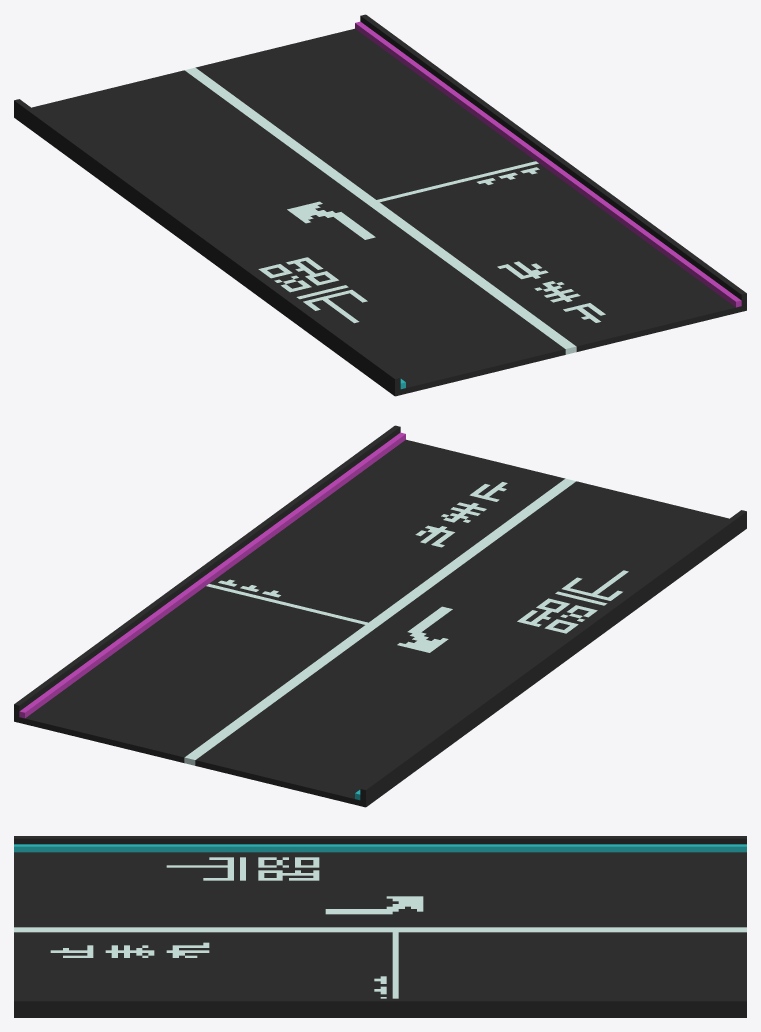
The model's file is SM_Road_2.fbx.
3 renders of one model, top to bottom at view 1: azimuth 30°, elevation 25°; view 2: azimuth 150°, elevation 25°; view 3: azimuth 270°, elevation 25°, orthographic. The views are drawn at different scales.
Visible parts, largest first — view 1: SM_Road_2; view 2: SM_Road_2; view 3: SM_Road_2.
Boxes of the visible parts, x1=… form: SM_Road_2: x1=14, y1=14, x2=746, y2=396; SM_Road_2: x1=14, y1=425, x2=746, y2=807; SM_Road_2: x1=14, y1=836, x2=746, y2=1017.
Bounding box in the file's own units: 1280 × 60 × 2400.
Materials: 3 (1 with a texture image).
